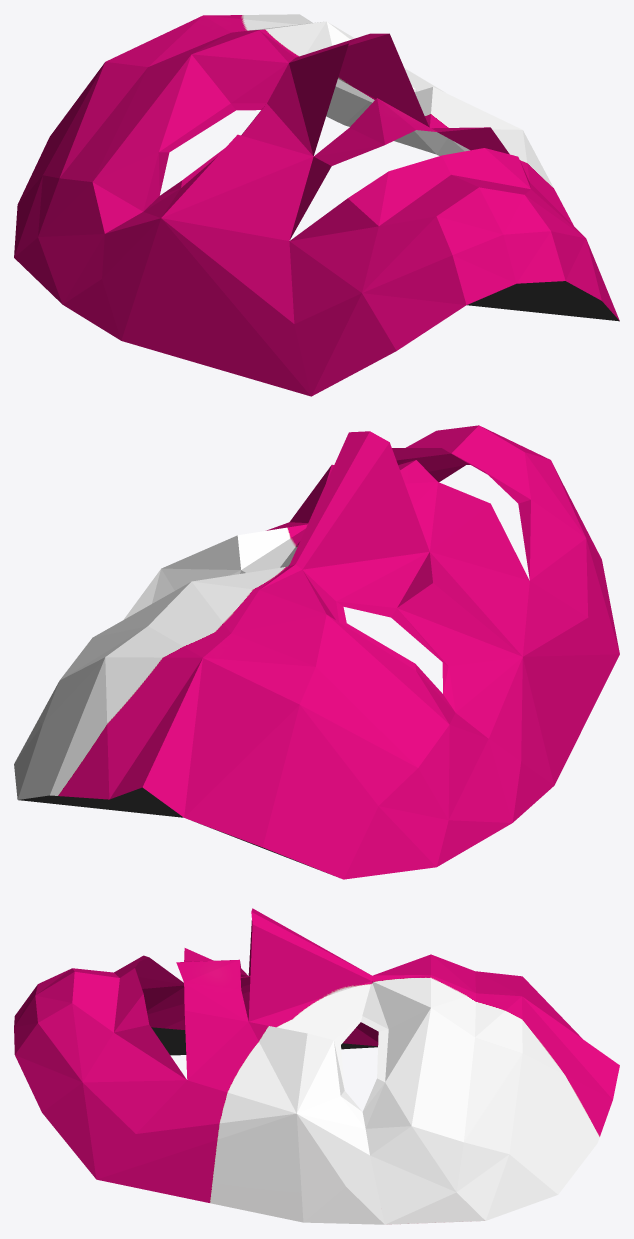
The model's file is mask_AR_5.gltf.
3 views of the same model, one above another, from view 1: azimuth 30°, elevation 25°; view 2: azimuth 150°, elevation 25°; view 3: azimuth 270°, elevation 25° (orthographic). The views are drawn at different scales.
Visible parts, largest first — view 1: mask.006; view 2: mask.006; view 3: mask.006.
Boxes of the visible parts, x1,y1,x2,y2 form: mask.006: (14,14,619,396); mask.006: (14,425,619,879); mask.006: (14,908,619,1224).
Size of the model in its own units: 0.00172 by 0.00102 by 0.00248.
Materials: 2 (1 with a texture image).
